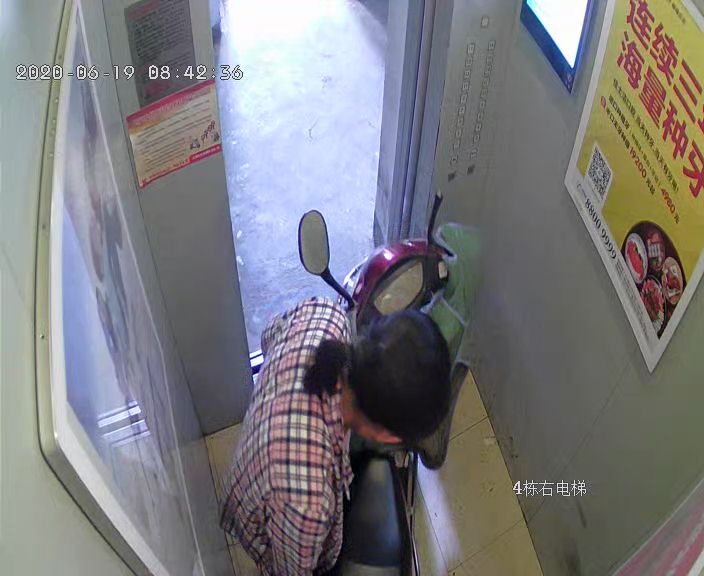Electric-bicycle: (297, 197, 458, 569)
